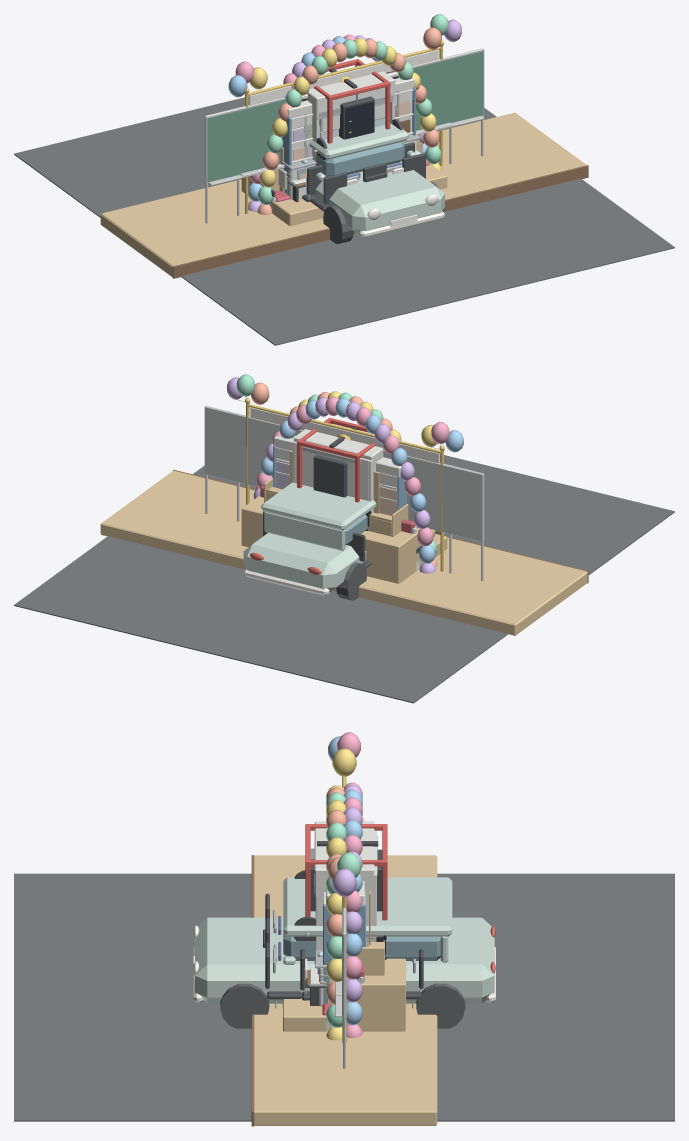
The model's file is school-classrooms.glb.
3 views of the same model, one above another, from view 1: azimuth 30°, elevation 25°; view 2: azimuth 150°, elevation 25°; view 3: azimuth 270°, elevation 25° (orthographic). The views are drawn at different scales.
Visible parts, largest first — view 1: gym-mat-rubber floor mat, stage-wide-light maple, parked-car-car paint, board-electronic-chalkboard green, stage-wide-walnut top, board-green-chalkboard green, balloon-arch-balloon mint, fume-hood-white laminate, balloon-arch-balloon coral, balloon-arch-balloon yellow, bleacher-light maple, parked-car-car window glass (+12 smaller); view 2: gym-mat-rubber floor mat, stage-wide-light maple, parked-car-car paint, board-electronic-brushed steel, bleacher-light maple, board-green-brushed steel, fume-hood-white laminate, balloon-arch-balloon sky, balloon-arch-balloon lavender, balloon-arch-balloon pink, welcome-banner-arcade white, server-rack-black plastic (+6 smaller); view 3: gym-mat-rubber floor mat, stage-wide-light maple, parked-car-car paint, bleacher-light maple, parked-car-car tyre, fume-hood-white laminate, parked-car-car window glass, power-rack-rack red, balloon-arch-balloon yellow, balloon-arch-balloon pink, conference-set-black plastic, balloon-arch-balloon sky (+7 smaller).
Boxes of the visible parts, <box> form: gym-mat-rubber floor mat: <box>14,96,674,345</box>; stage-wide-light maple: <box>100,112,586,276</box>; parked-car-car paint: <box>309,123,444,234</box>; board-electronic-chalkboard green: <box>207,51,483,182</box>; stage-wide-walnut top: <box>172,165,588,278</box>; board-green-chalkboard green: <box>241,61,450,172</box>; balloon-arch-balloon mint: <box>258,39,441,204</box>; fume-hood-white laminate: <box>307,62,395,165</box>; balloon-arch-balloon coral: <box>257,38,439,214</box>; balloon-arch-balloon yellow: <box>259,38,441,187</box>; bleacher-light maple: <box>241,135,447,226</box>; parked-car-car window glass: <box>316,141,404,176</box>; gym-mat-rubber floor mat: <box>14,454,674,703</box>; stage-wide-light maple: <box>100,470,587,635</box>; parked-car-car paint: <box>243,482,376,592</box>; board-electronic-brushed steel: <box>204,405,484,581</box>; bleacher-light maple: <box>241,496,447,583</box>; board-green-brushed steel: <box>236,414,451,573</box>; fume-hood-white laminate: <box>292,429,383,513</box>; balloon-arch-balloon sky: <box>261,398,435,563</box>; balloon-arch-balloon lavender: <box>253,397,435,573</box>; balloon-arch-balloon pink: <box>256,396,433,546</box>; welcome-banner-arcade white: <box>236,397,450,463</box>; server-rack-black plastic: <box>313,455,347,497</box>; gym-mat-rubber floor mat: <box>14,873,674,1121</box>; stage-wide-light maple: <box>254,855,437,1125</box>; parked-car-car paint: <box>195,877,494,1003</box>; bleacher-light maple: <box>283,958,405,1031</box>; parked-car-car tyre: <box>220,983,465,1028</box>; fume-hood-white laminate: <box>314,821,376,950</box>; parked-car-car window glass: <box>283,933,440,960</box>; power-rack-rack red: <box>305,824,387,920</box>; balloon-arch-balloon yellow: <box>326,785,346,1040</box>; balloon-arch-balloon pink: <box>343,782,362,1037</box>; conference-set-black plastic: <box>265,893,423,1005</box>; balloon-arch-balloon sky: <box>343,789,362,1025</box>.
Bounding box in the file's own units: 7.9 × 2.96 × 8.6.
